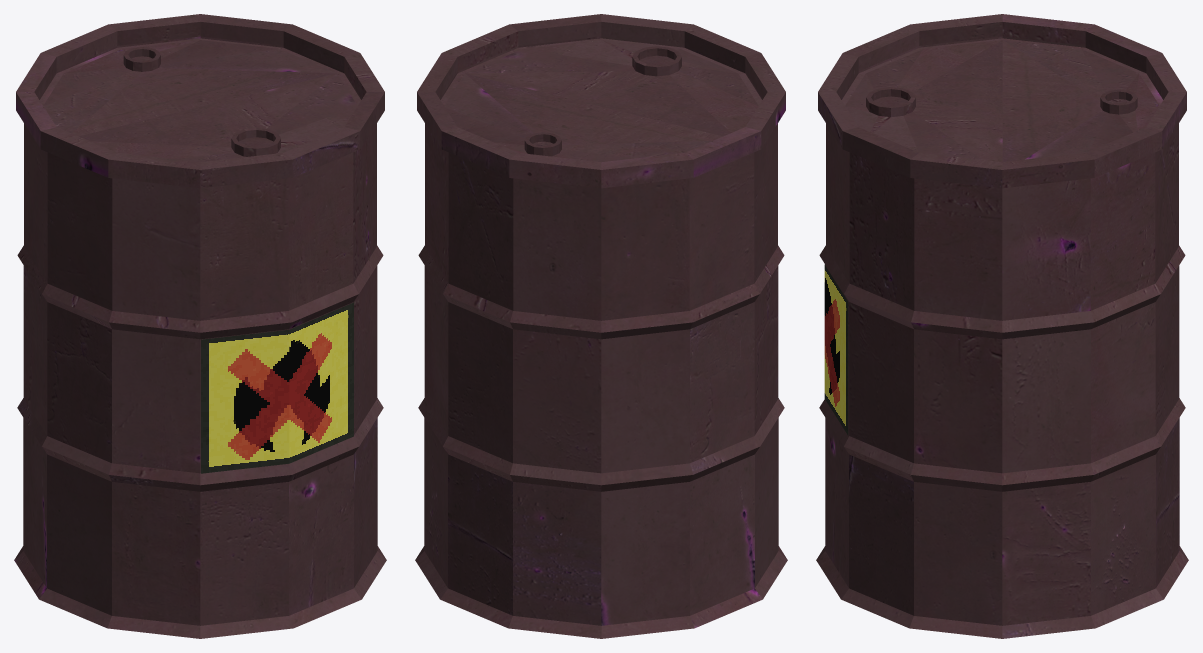
The model's file is irontnt_drum.fbx.
The picture shows the model from 3 angles, left to right: view 1: azimuth 30°, elevation 25°; view 2: azimuth 150°, elevation 25°; view 3: azimuth 270°, elevation 25°; orthographic projection.
Parts seen in each view (by area): view 1: drum; view 2: drum; view 3: drum.
Part boxes in pixels (x1,y1,x2,y2): drum: [14, 14, 386, 638]; drum: [415, 14, 787, 638]; drum: [816, 14, 1188, 638].
Size of the model in its own units: 184 by 255 by 184.
